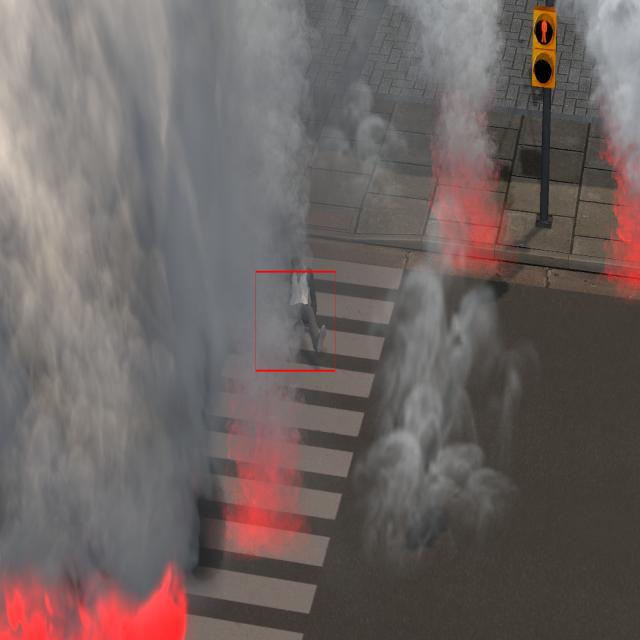Human: (260, 247, 332, 362)
